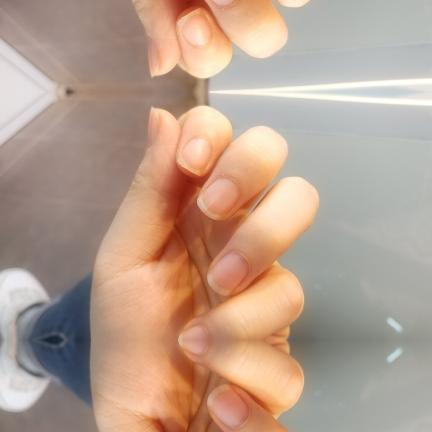Nail: (208, 250, 250, 295), (197, 176, 240, 219), (208, 385, 250, 429), (177, 137, 211, 175), (177, 7, 211, 45), (146, 105, 161, 148), (146, 34, 161, 77), (178, 325, 209, 340), (178, 340, 209, 355), (212, 0, 236, 6)
